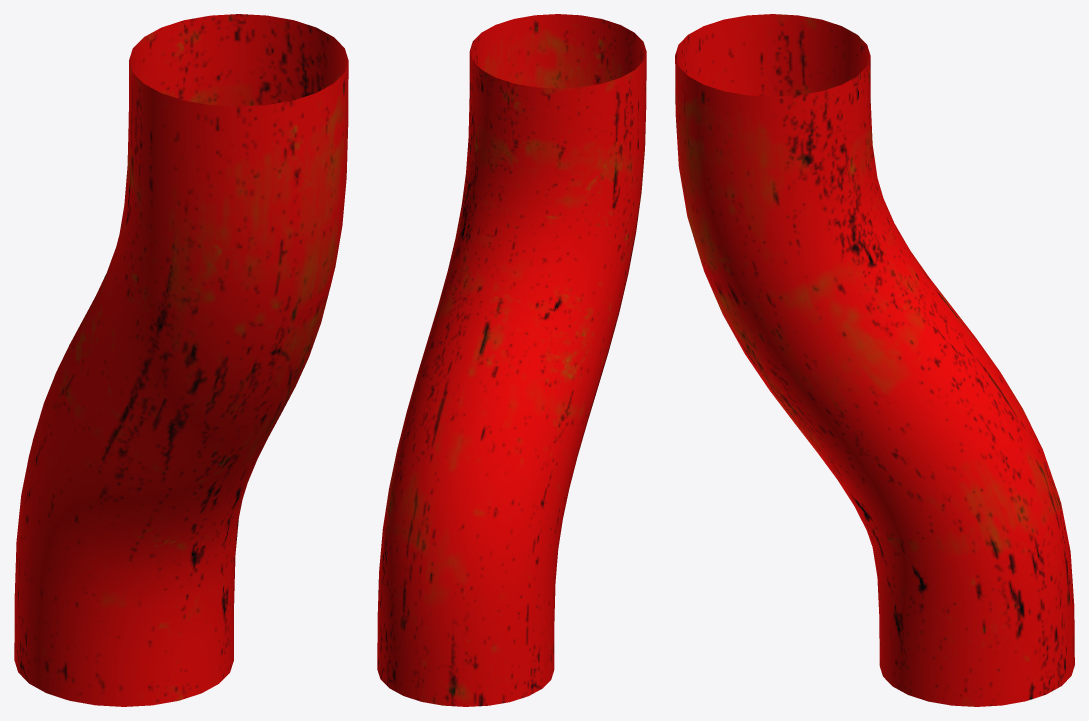
Rendered from SM_IronPipe_curv_03.fbx.
The picture shows the model from 3 angles, left to right: view 1: azimuth 30°, elevation 25°; view 2: azimuth 150°, elevation 25°; view 3: azimuth 270°, elevation 25°; orthographic projection. The views are drawn at different scales.
Visible parts, largest first — view 1: SM_IronPipe_curv_03_LOD0; view 2: SM_IronPipe_curv_03_LOD0; view 3: SM_IronPipe_curv_03_LOD0.
Part boxes in pixels (bbox=[...]): SM_IronPipe_curv_03_LOD0: bbox=[14, 14, 348, 706]; SM_IronPipe_curv_03_LOD0: bbox=[377, 14, 646, 706]; SM_IronPipe_curv_03_LOD0: bbox=[675, 14, 1074, 706].
Size of the model in its own units: 14.56 by 29.69 by 50.03.
